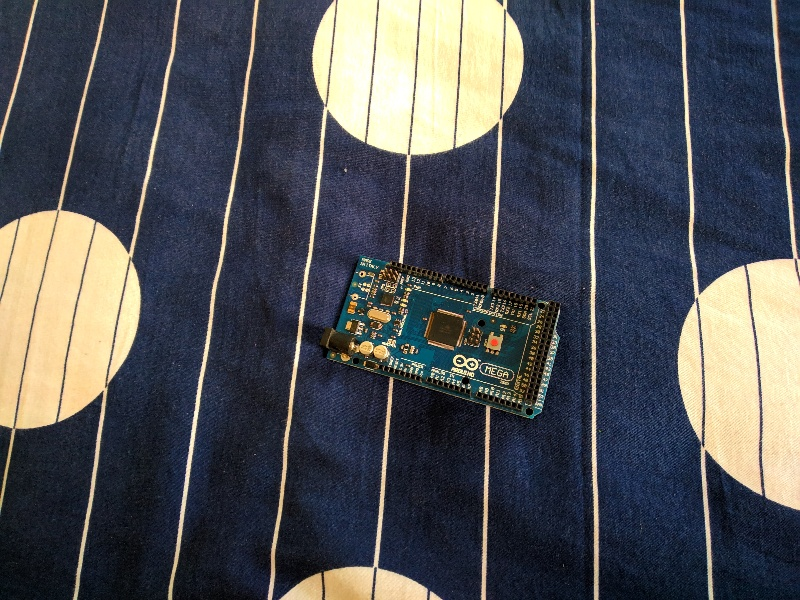Arduino Mega 2560: (314, 247, 574, 426)
